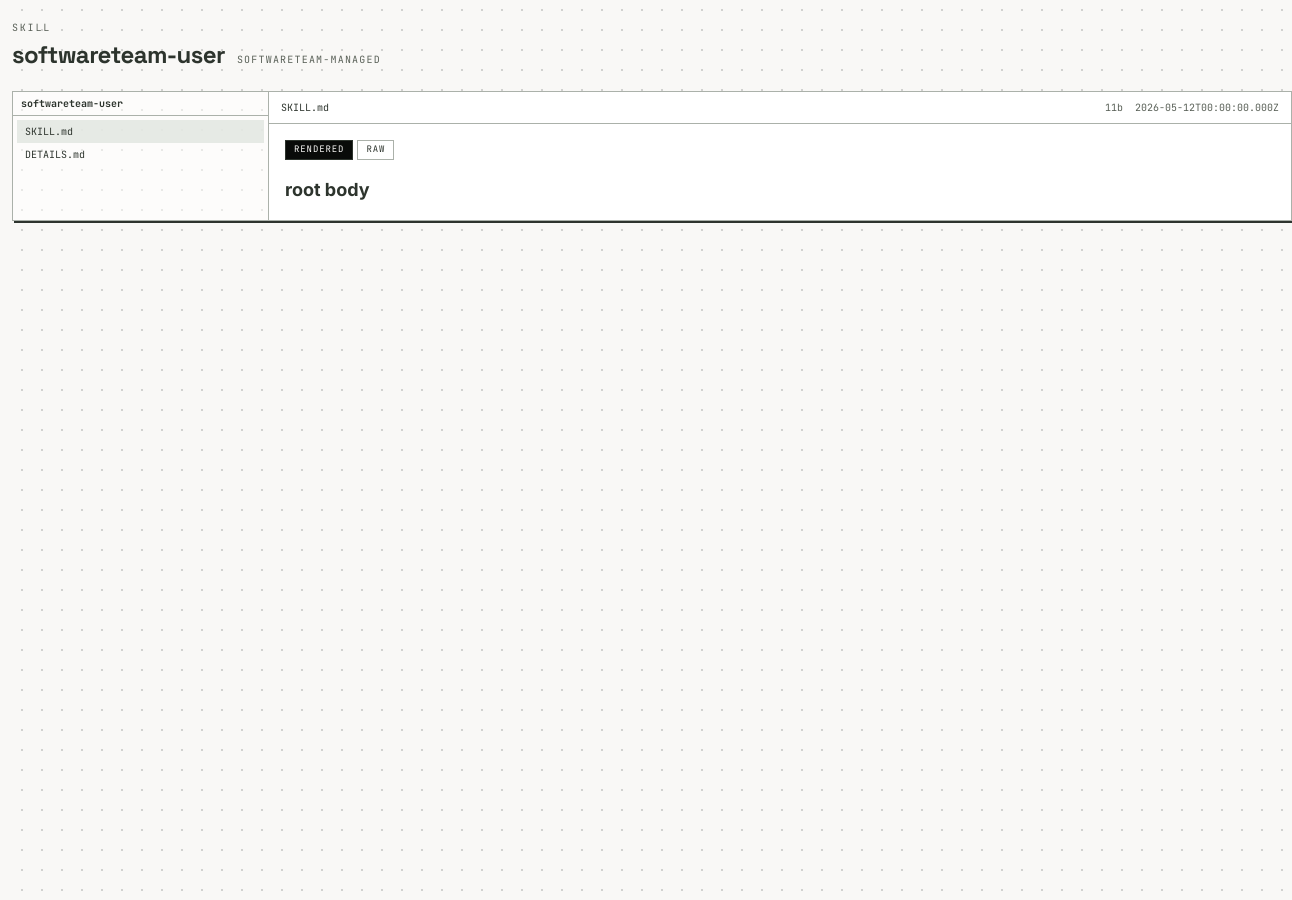
Test: SkillDetailPage — slice 28 HG-7 + HG-8 docs-browser (daemon skill-library API) › clicking a non-default file in the tree switches the viewer content
This screenshot has width=1292, height=900.
Expected: the heading "root body" is shown, [285,178,370,200]
Click the button with test id "skill-detail-tree-entry-DETAILS.md": [140, 154] box [17,143,264,166]
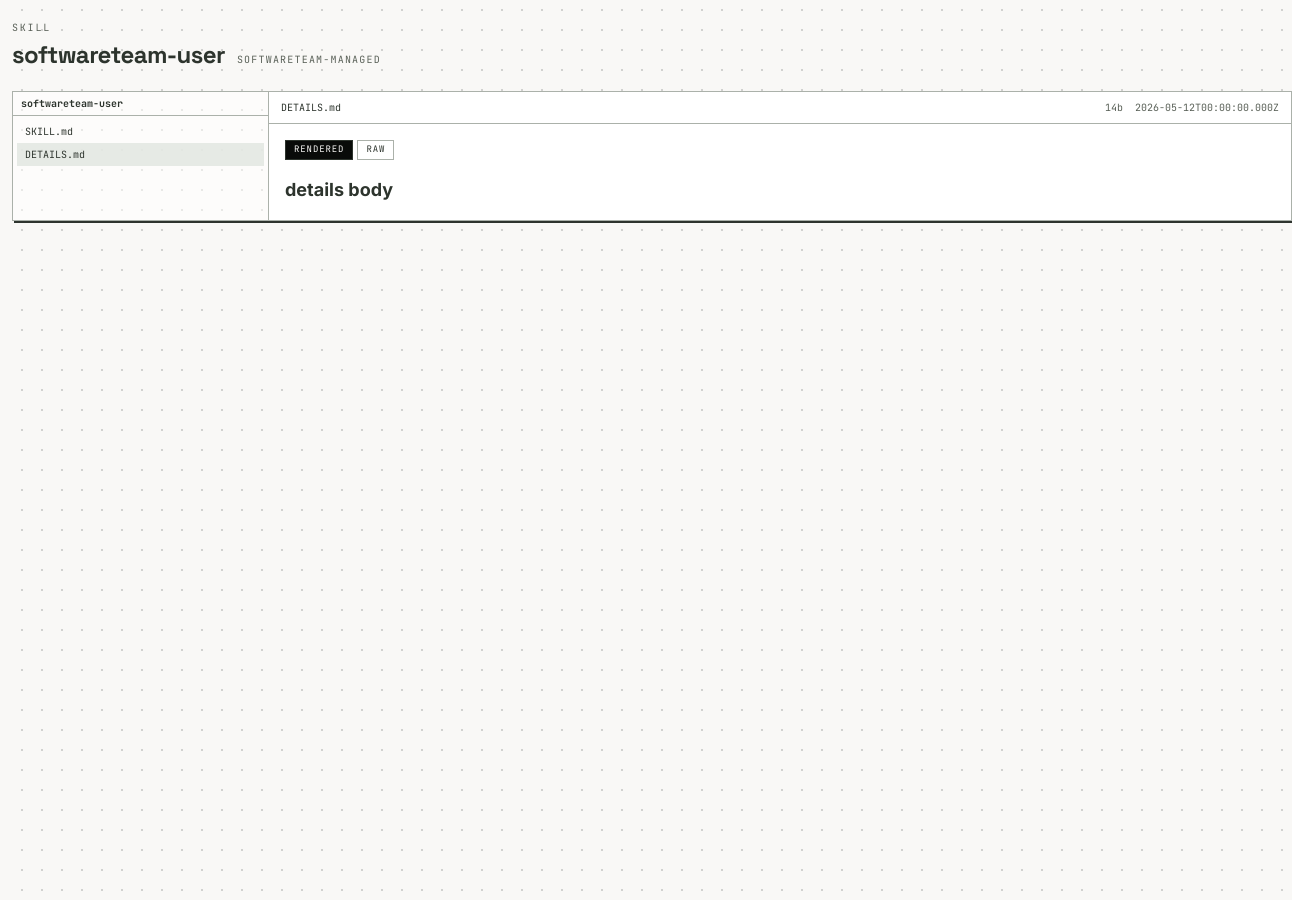
Expected: the heading "details body" is shown, [285,178,393,200]
